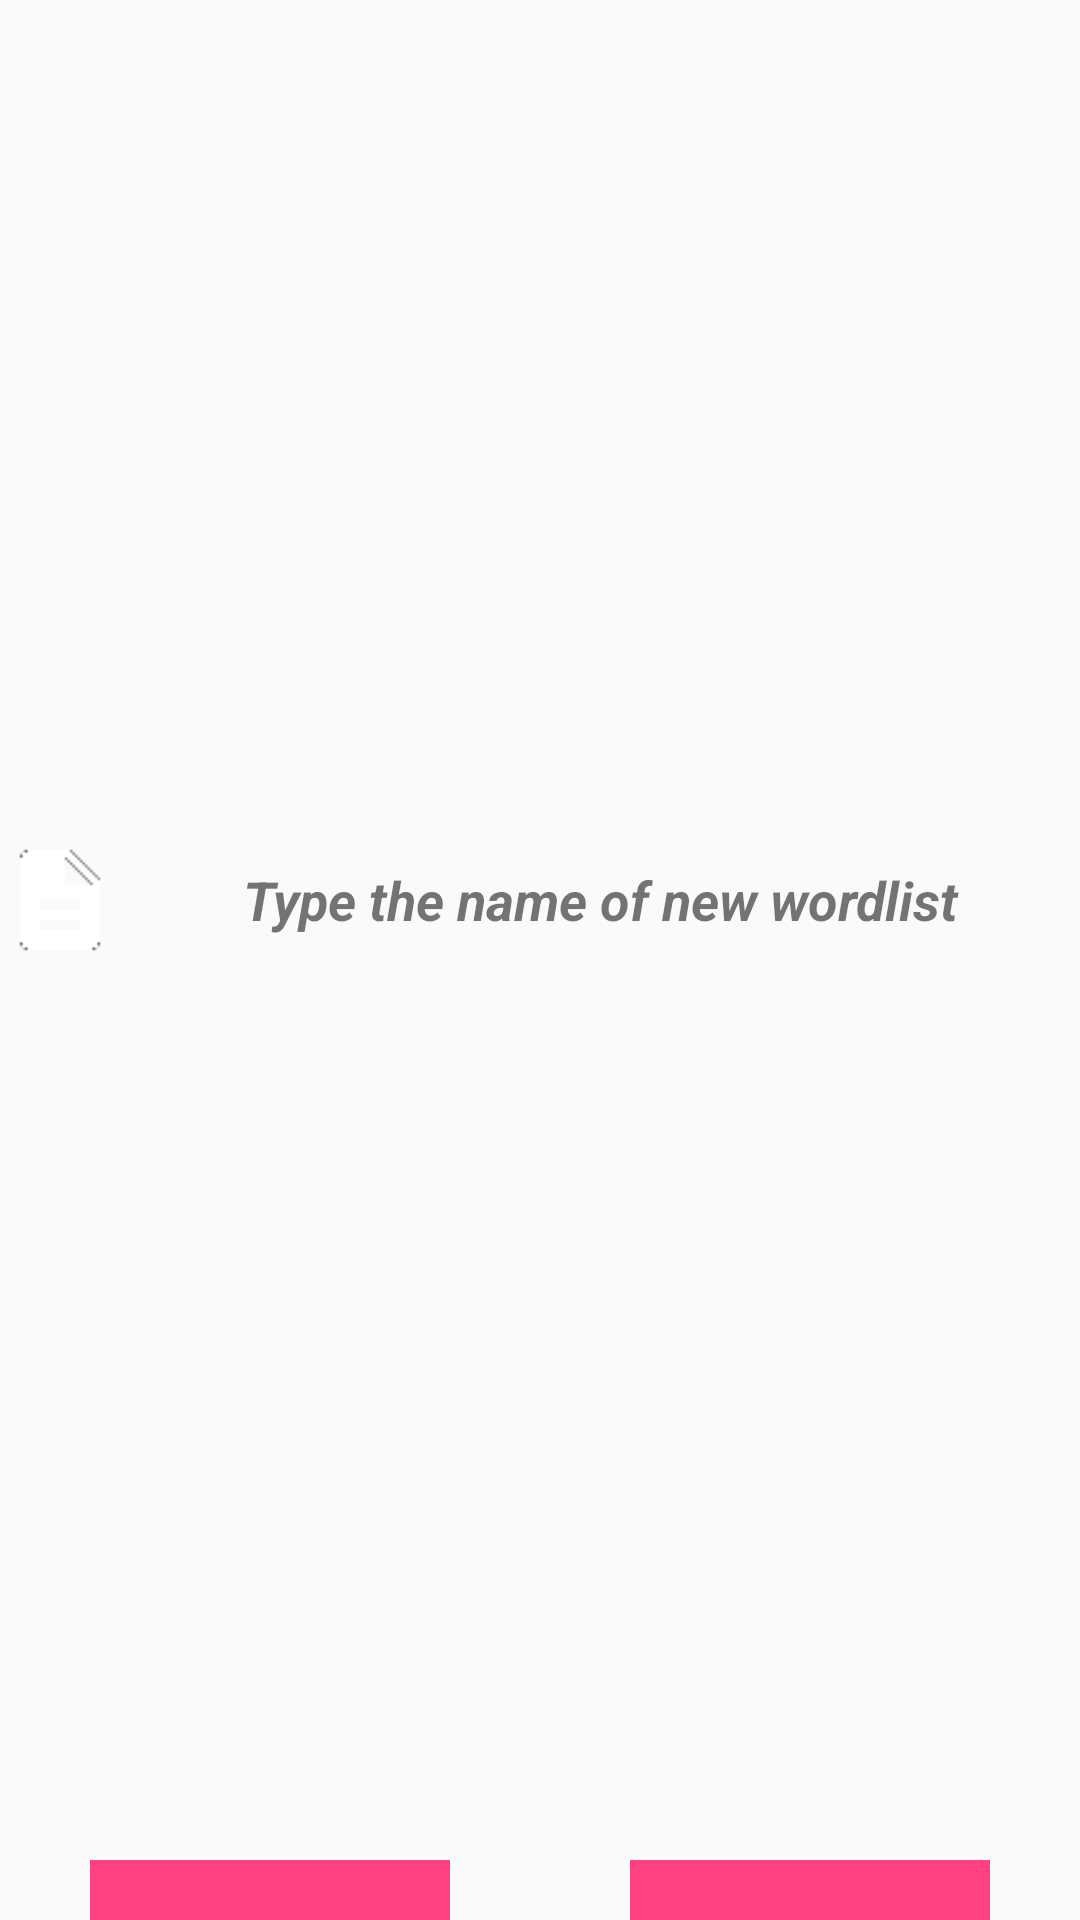

Locate icon controls on the screen. Image size 1080×1920, boxes as [left=x1, top=y1, right=x2, bottom=y2].
description: [left=19, top=849, right=101, bottom=951]
